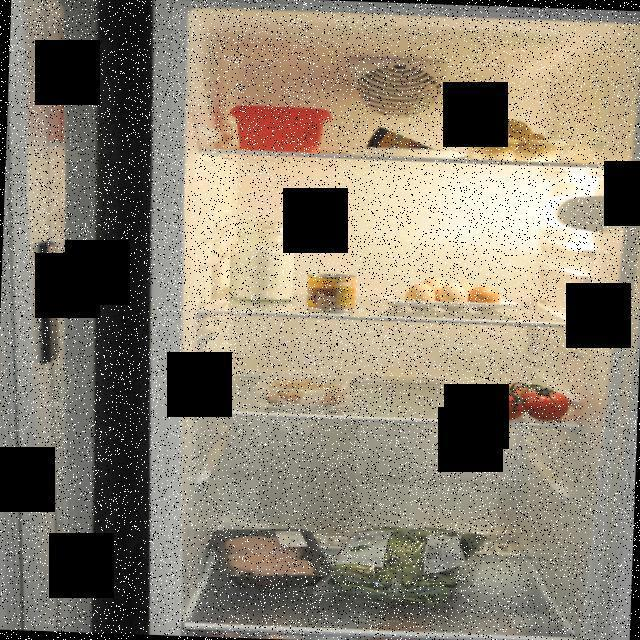butter: (226, 102, 332, 156)
cheese: (364, 126, 439, 157)
chicken_breast: (224, 529, 321, 585)
corn: (306, 271, 356, 314)
eggs: (401, 275, 501, 313)
shrimp: (260, 373, 348, 411)
spinach: (316, 524, 490, 606)
sugar: (226, 218, 300, 303)
sweet_potato: (462, 116, 566, 165)
tomato: (474, 378, 572, 422)
